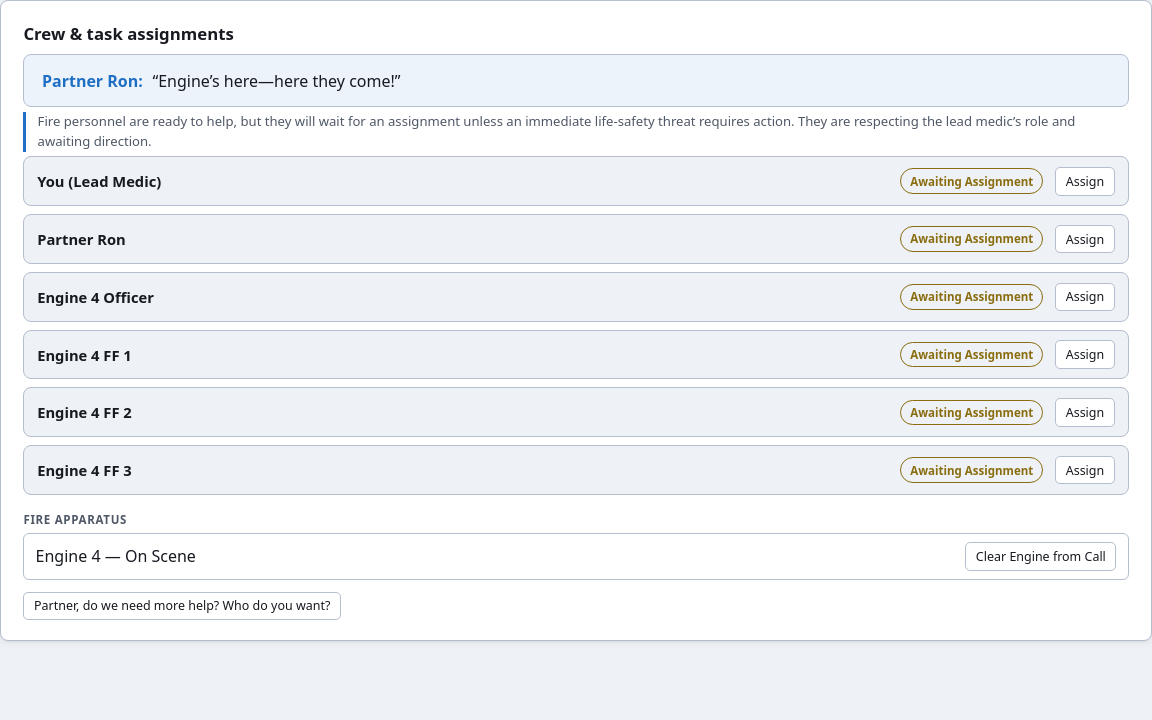
CrewOps — Clear Engine from Call (§14) › blocks clearing while a member has an active task and explains why
Click the button "Assign" in the row of "Engine 4 FF 1".
click(1085, 355)  # box [1055,340,1115,369]
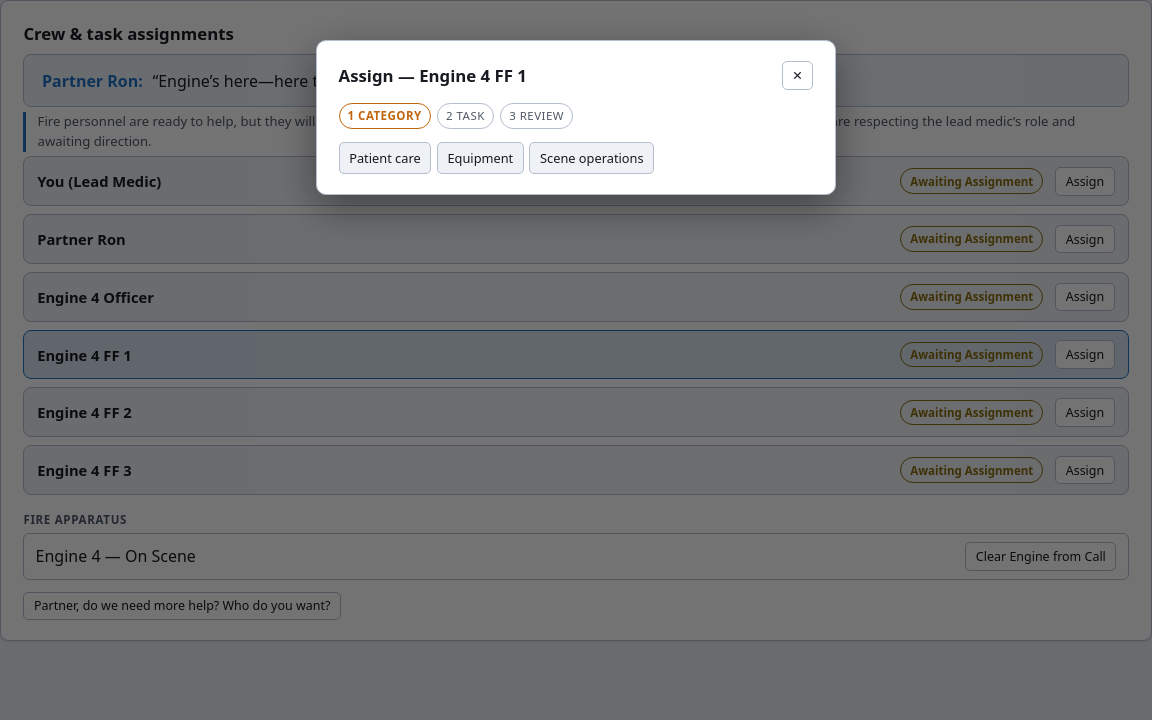
Click the button "Patient care".
click(385, 158)  # box [339,142,431,174]
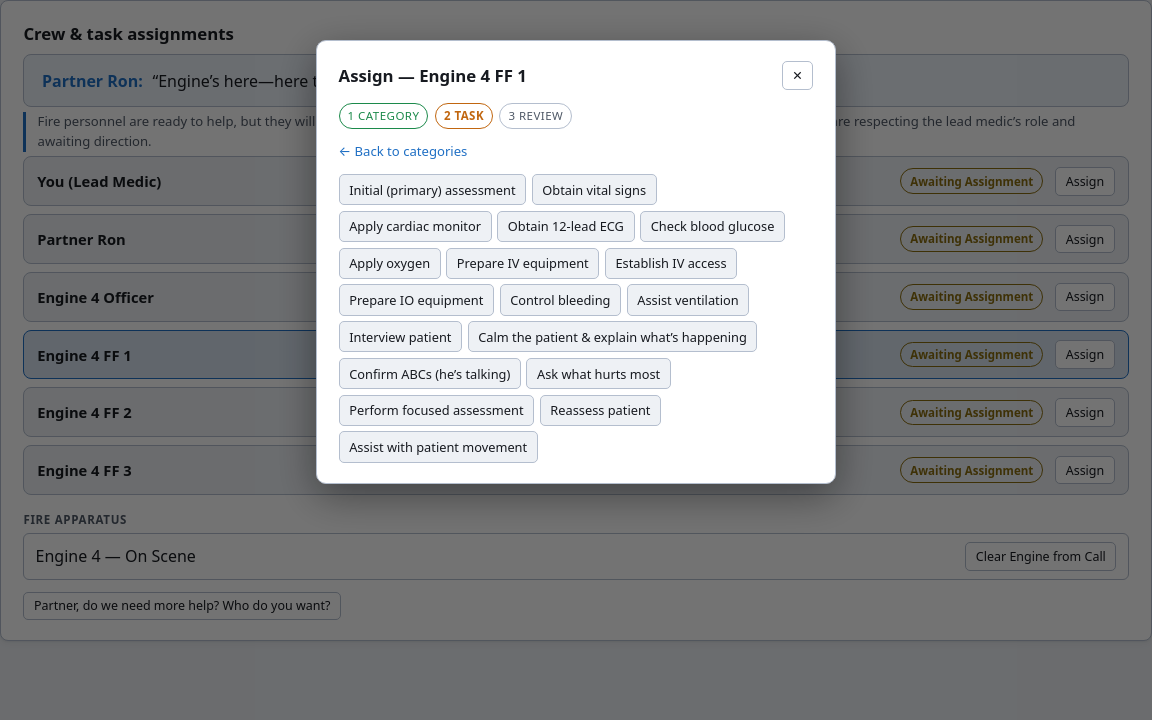
Click the button "Obtain vital signs".
click(594, 190)  # box [532,174,657,205]
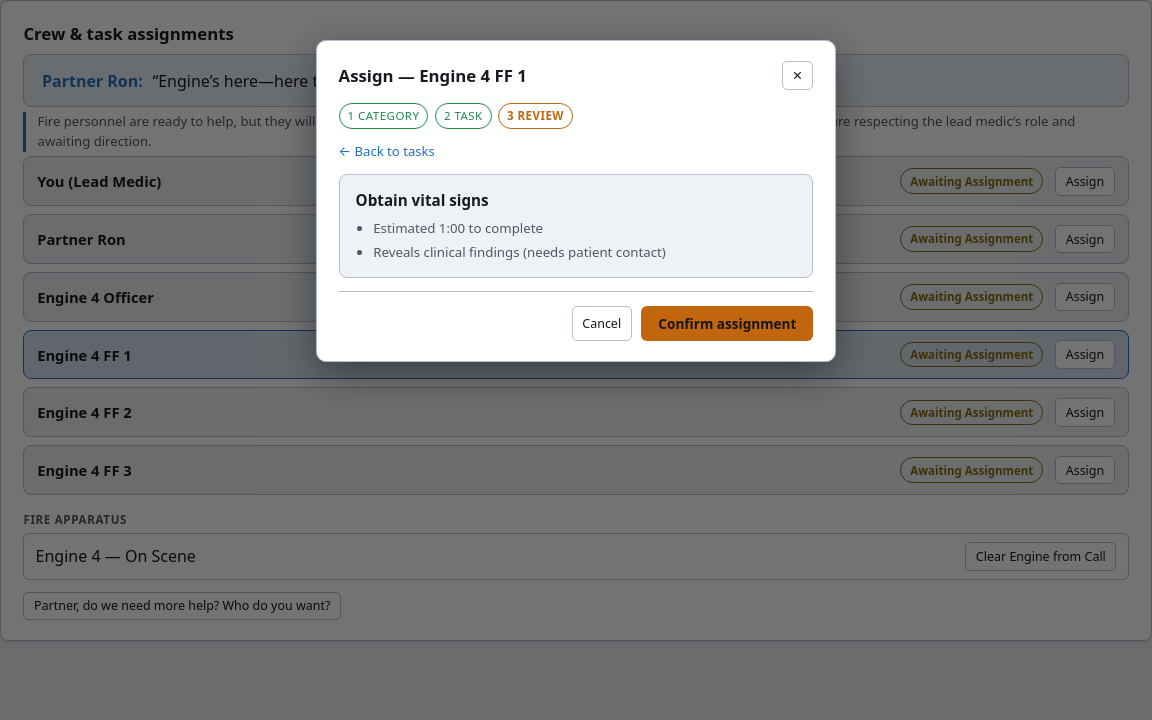
Click the button "Confirm assignment".
click(727, 324)  # box [641,306,813,341]
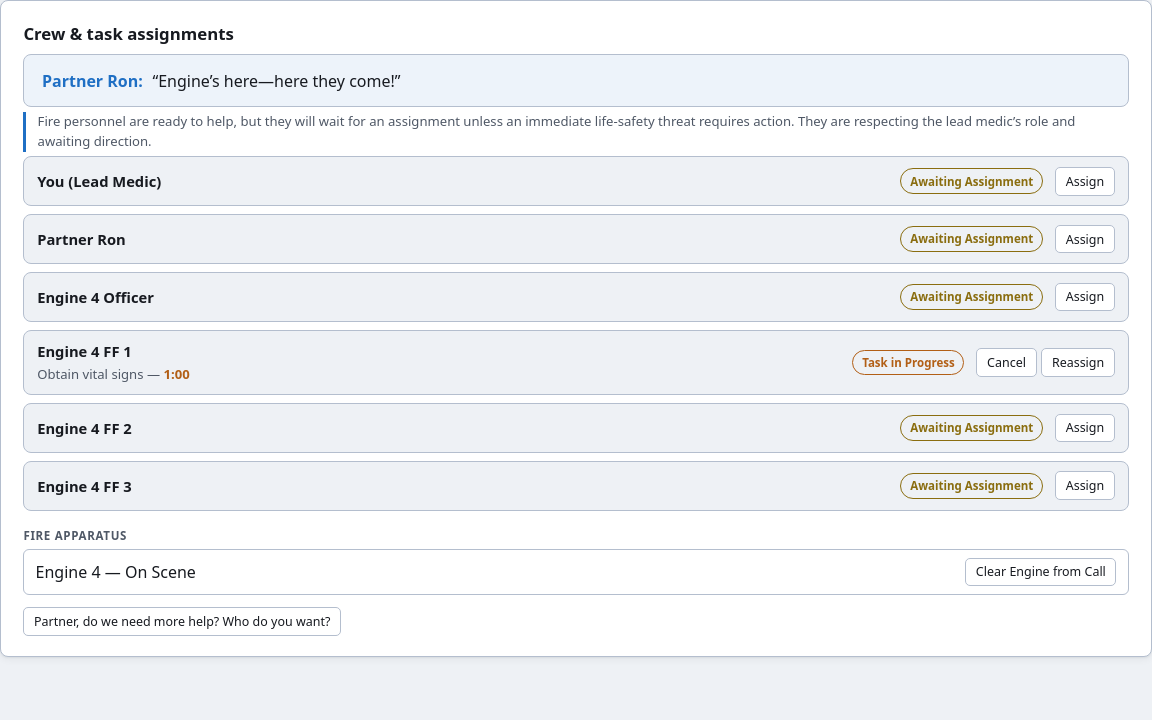
Click the button "Clear Engine from Call".
click(1041, 572)  # box [965,558,1116,586]
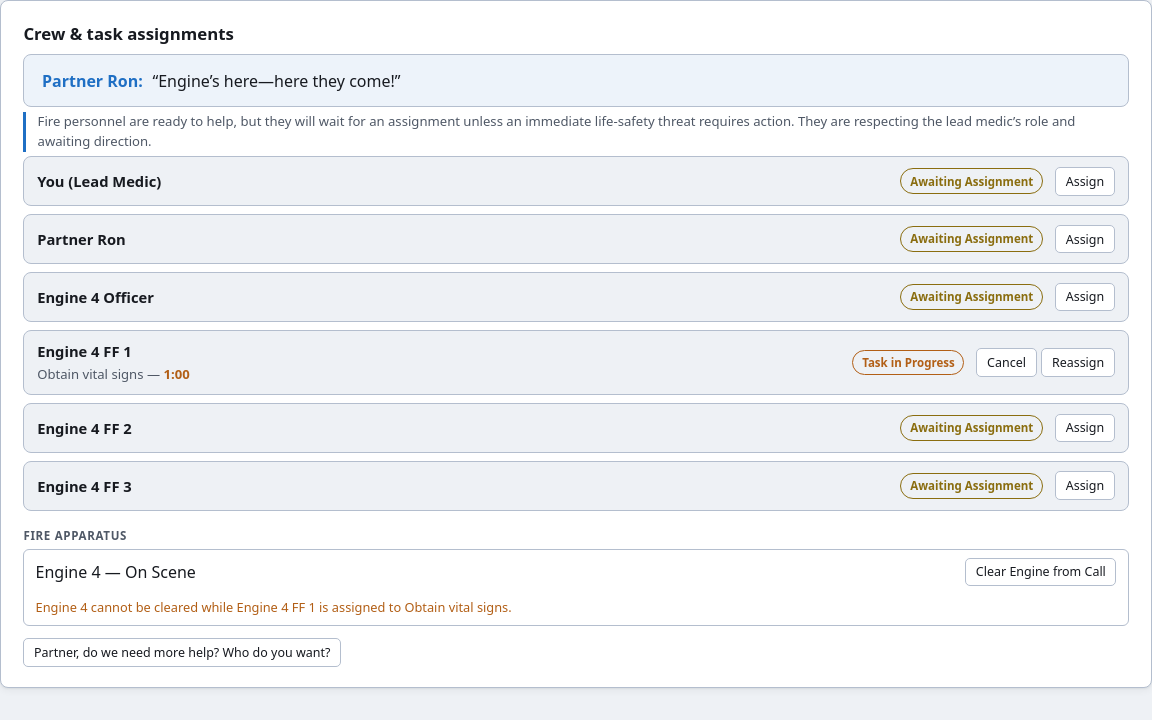
Expected: the text "cannot be cleared while" is shown, [36,598,512,616]
